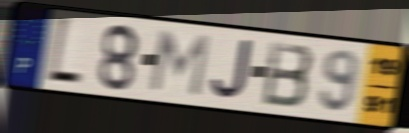8: (97, 22, 139, 91)
9: (316, 48, 361, 114)
B: (260, 39, 316, 111)
J: (208, 39, 254, 103)
L: (44, 14, 84, 89)
M: (147, 28, 213, 100)
